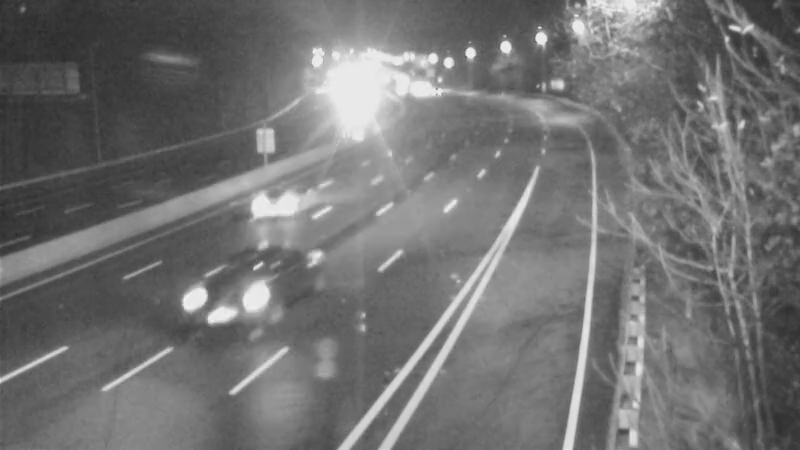vehicle: (160, 254, 270, 364), (235, 165, 315, 245), (405, 66, 455, 116)
